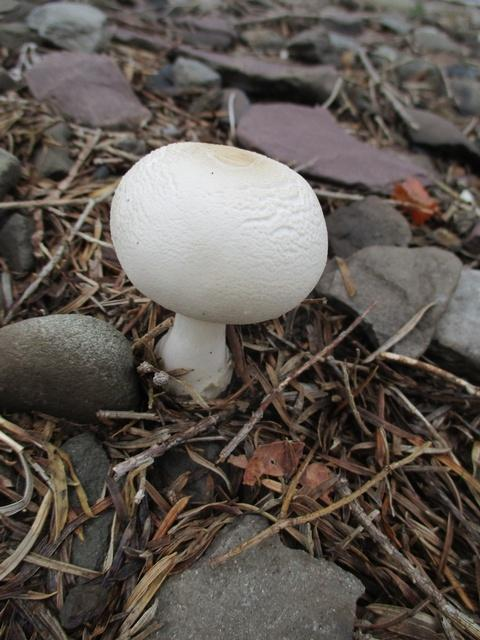Non-edible Mushroom: (108, 139, 329, 401)
